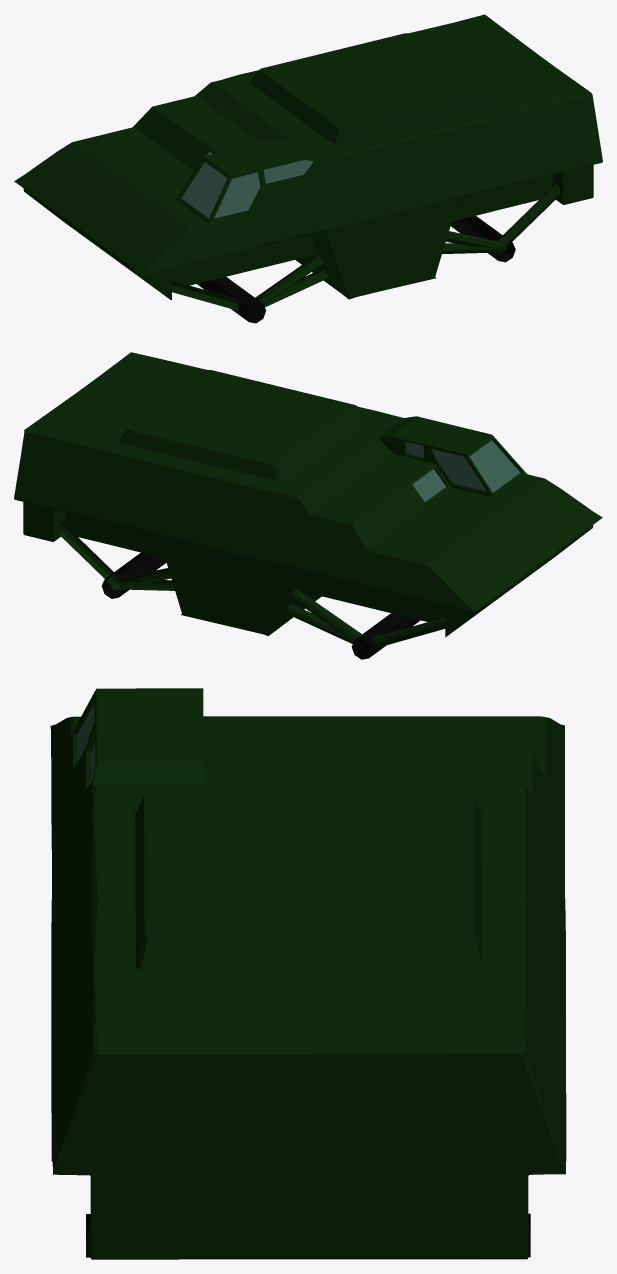
The model's file is Simba.fbx.
3 renders of one model, top to bottom at view 1: azimuth 30°, elevation 25°; view 2: azimuth 150°, elevation 25°; view 3: azimuth 270°, elevation 25°, orthographic. The views are drawn at different scales.
Visible parts, largest first — view 1: Simba_Body; view 2: Simba_Body; view 3: Simba_Body.
Part boxes in pixels (left/top/right/bottom): Simba_Body: left=14, top=14, right=602, bottom=323; Simba_Body: left=14, top=352, right=602, bottom=659; Simba_Body: left=50, top=688, right=566, bottom=1259.
Size of the model in its own units: 553 by 183 by 268.
